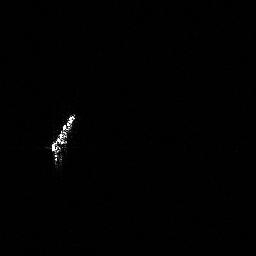ship: (47, 110, 81, 169)
